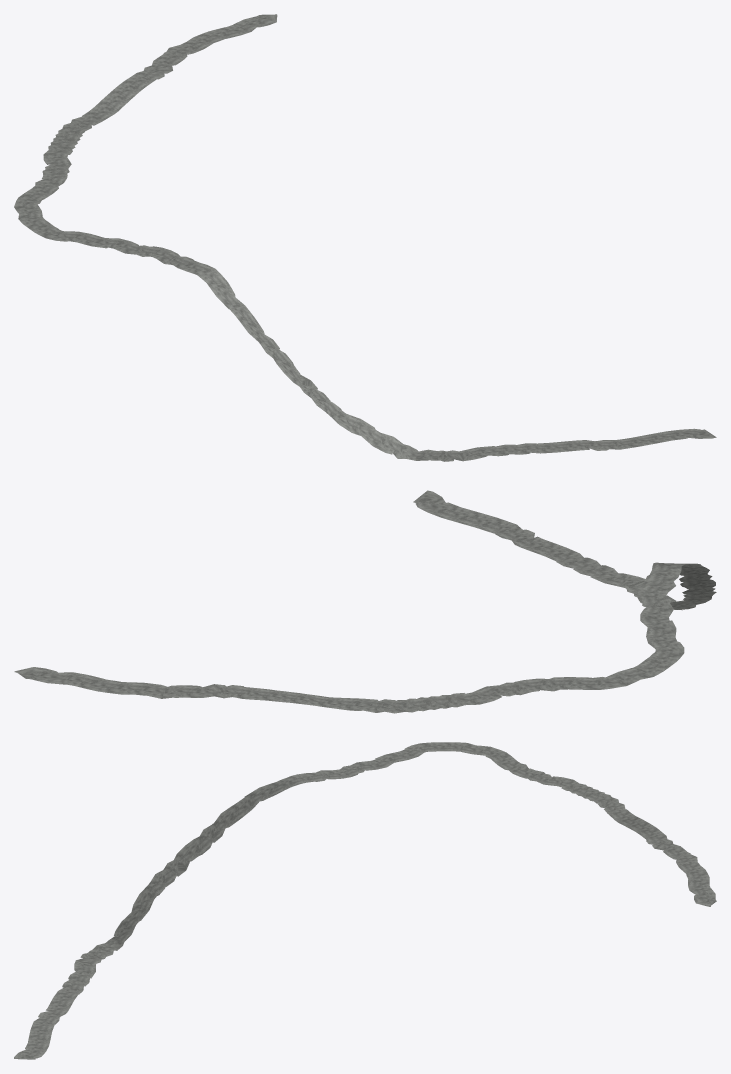
Rendered from RD-ROAD-023.obj.
3 renders of one model, top to bottom at view 1: azimuth 30°, elevation 25°; view 2: azimuth 150°, elevation 25°; view 3: azimuth 270°, elevation 25°, orthographic. The views are drawn at different scales.
Parts seen in each view (by area): view 1: RD-ROAD-023; view 2: RD-ROAD-023; view 3: RD-ROAD-023.
Boxes of the visible parts, x1,y1,x2,y2 form: RD-ROAD-023: [14, 14, 716, 461]; RD-ROAD-023: [14, 490, 716, 713]; RD-ROAD-023: [14, 742, 716, 1059].
Size of the model in its own units: 88.84 by 28.38 by 137.
Materials: 1 (1 with a texture image).
